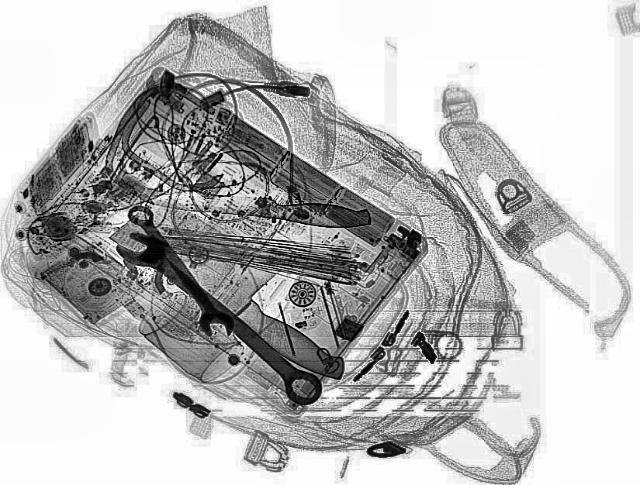Knife: (97, 190, 395, 386), (142, 186, 372, 230)
Wrench: (106, 226, 338, 408)
